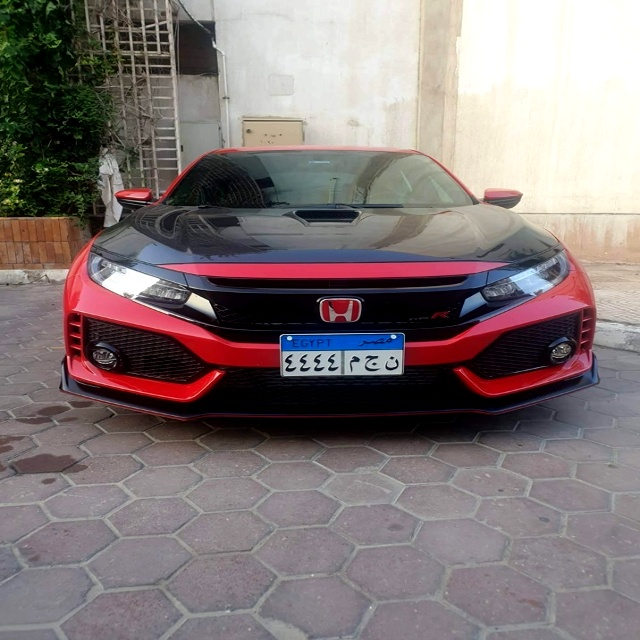License Plate: (278, 331, 408, 379)
